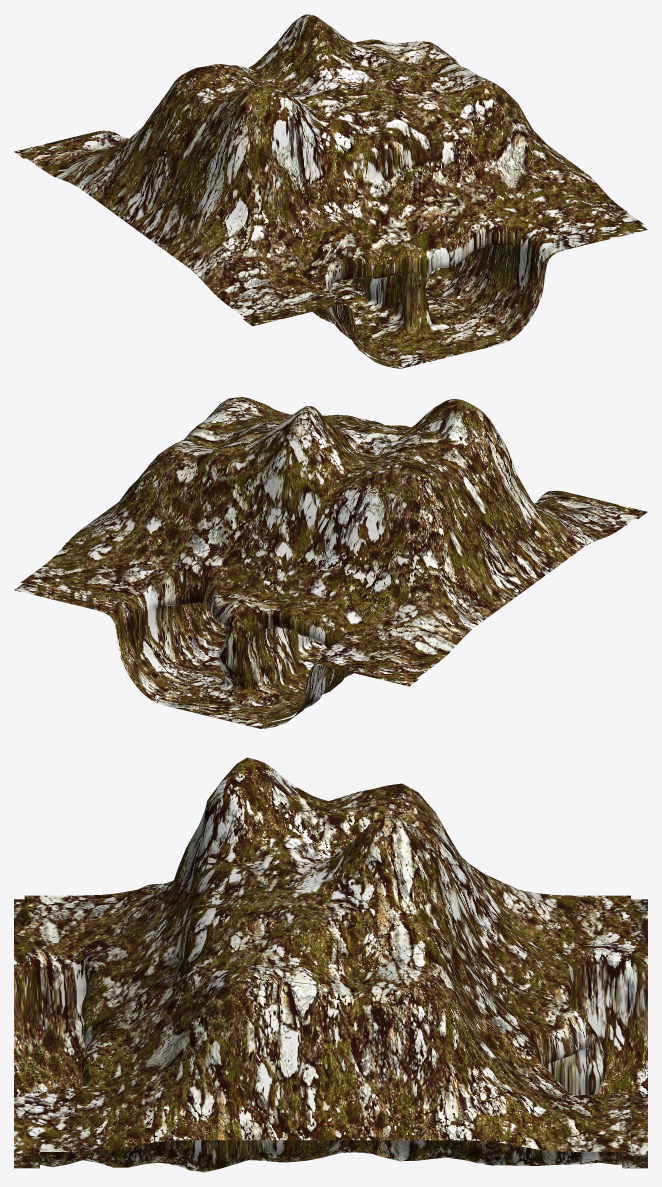
Rendered from Tunnel.FBX.
The picture shows the model from 3 angles, top to bottom: view 1: azimuth 30°, elevation 25°; view 2: azimuth 150°, elevation 25°; view 3: azimuth 270°, elevation 25°; orthographic projection. The views are drawn at different scales.
Visible parts, largest first — view 1: Tunnel_flat; view 2: Tunnel_flat; view 3: Tunnel_flat.
Part boxes in pixels (x1,y1,x2,y2): Tunnel_flat: (14,14,647,368); Tunnel_flat: (14,397,647,728); Tunnel_flat: (14,757,647,1172).
Bounding box in the file's own units: 1000 × 578 × 1045.
